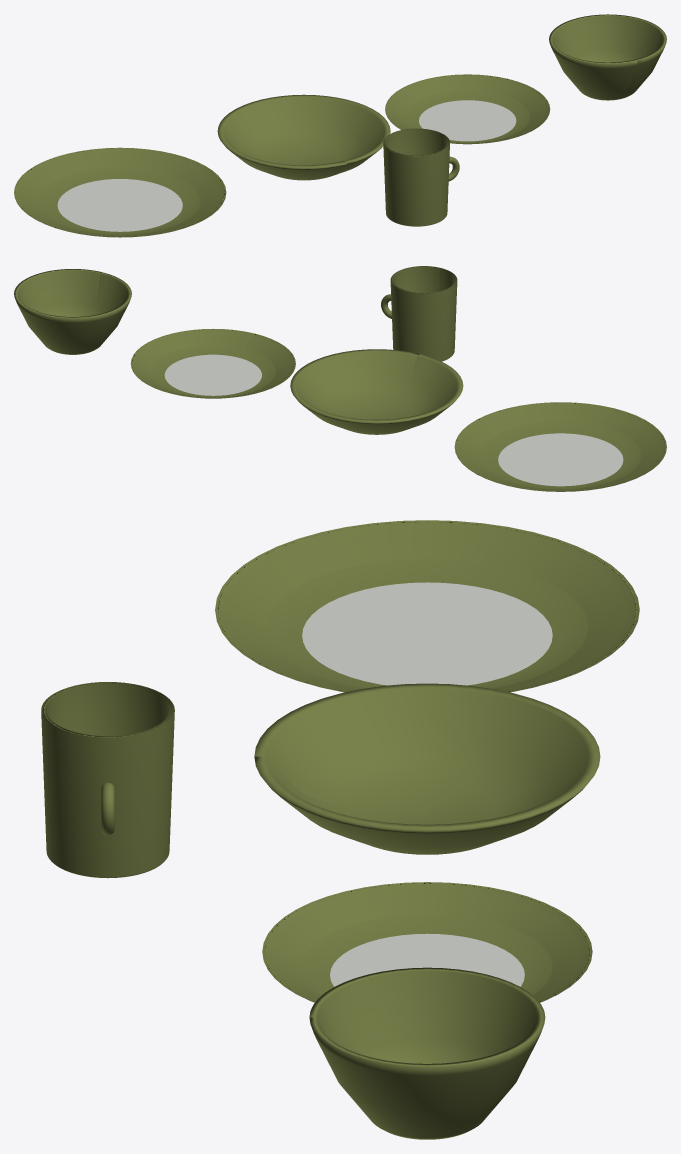
3 renders of one model, top to bottom at view 1: azimuth 30°, elevation 25°; view 2: azimuth 150°, elevation 25°; view 3: azimuth 270°, elevation 25°, orthographic. The views are drawn at different scales.
Size of the model in its own units: 0.926 by 0.1 by 0.3805.
